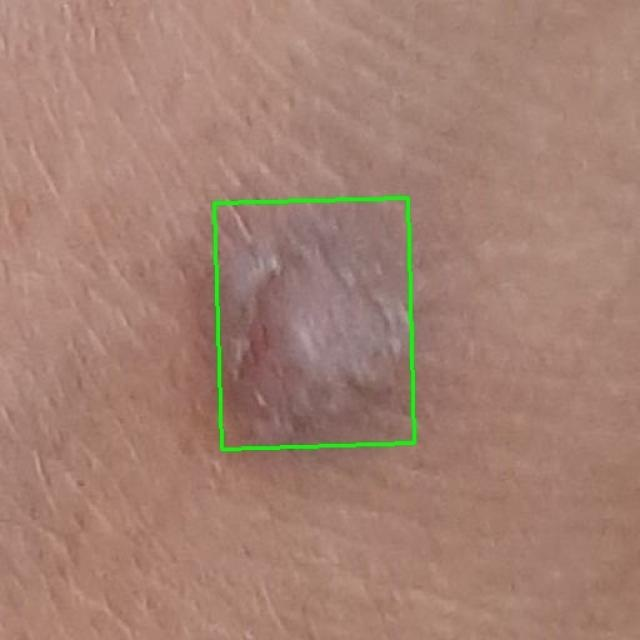Contact Dermatitis: (215, 198, 415, 449)
